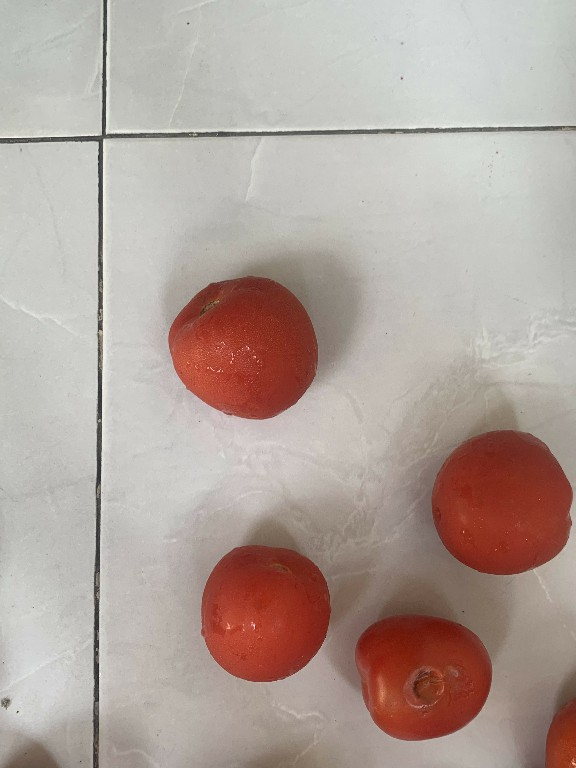NG: (352, 615, 505, 751)
OK: (161, 262, 337, 436), (421, 416, 568, 584), (202, 539, 338, 684)
